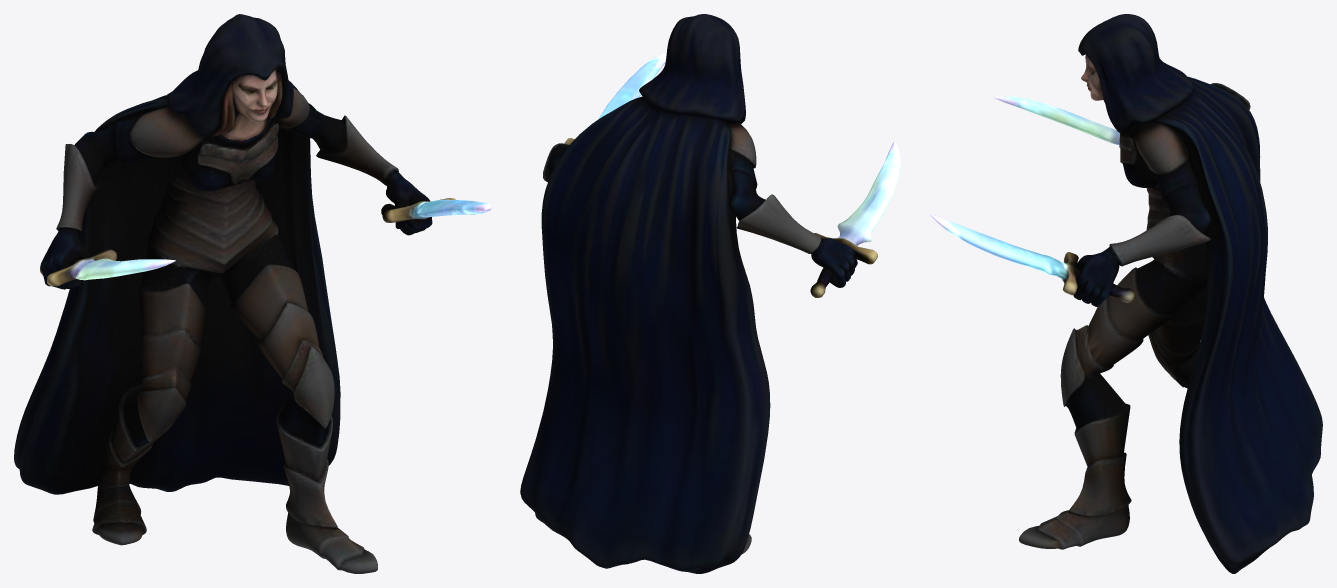
File: MZ4250 - Drow Shadowblade_Alt1.glb
3 views of the same model, side by side, from view 1: azimuth 30°, elevation 25°; view 2: azimuth 150°, elevation 25°; view 3: azimuth 270°, elevation 25° (orthographic). The views are drawn at different scales.
Visible parts, largest first — view 1: Scimitar.002; view 2: Scimitar.002; view 3: Scimitar.002.
Part boxes in pixels (x1,y1,x2,y2): Scimitar.002: (14,14,491,573); Scimitar.002: (520,14,901,573); Scimitar.002: (930,14,1322,573).
Size of the model in its own units: 65.63 by 91.21 by 64.05.
1 material, 1 textured.
